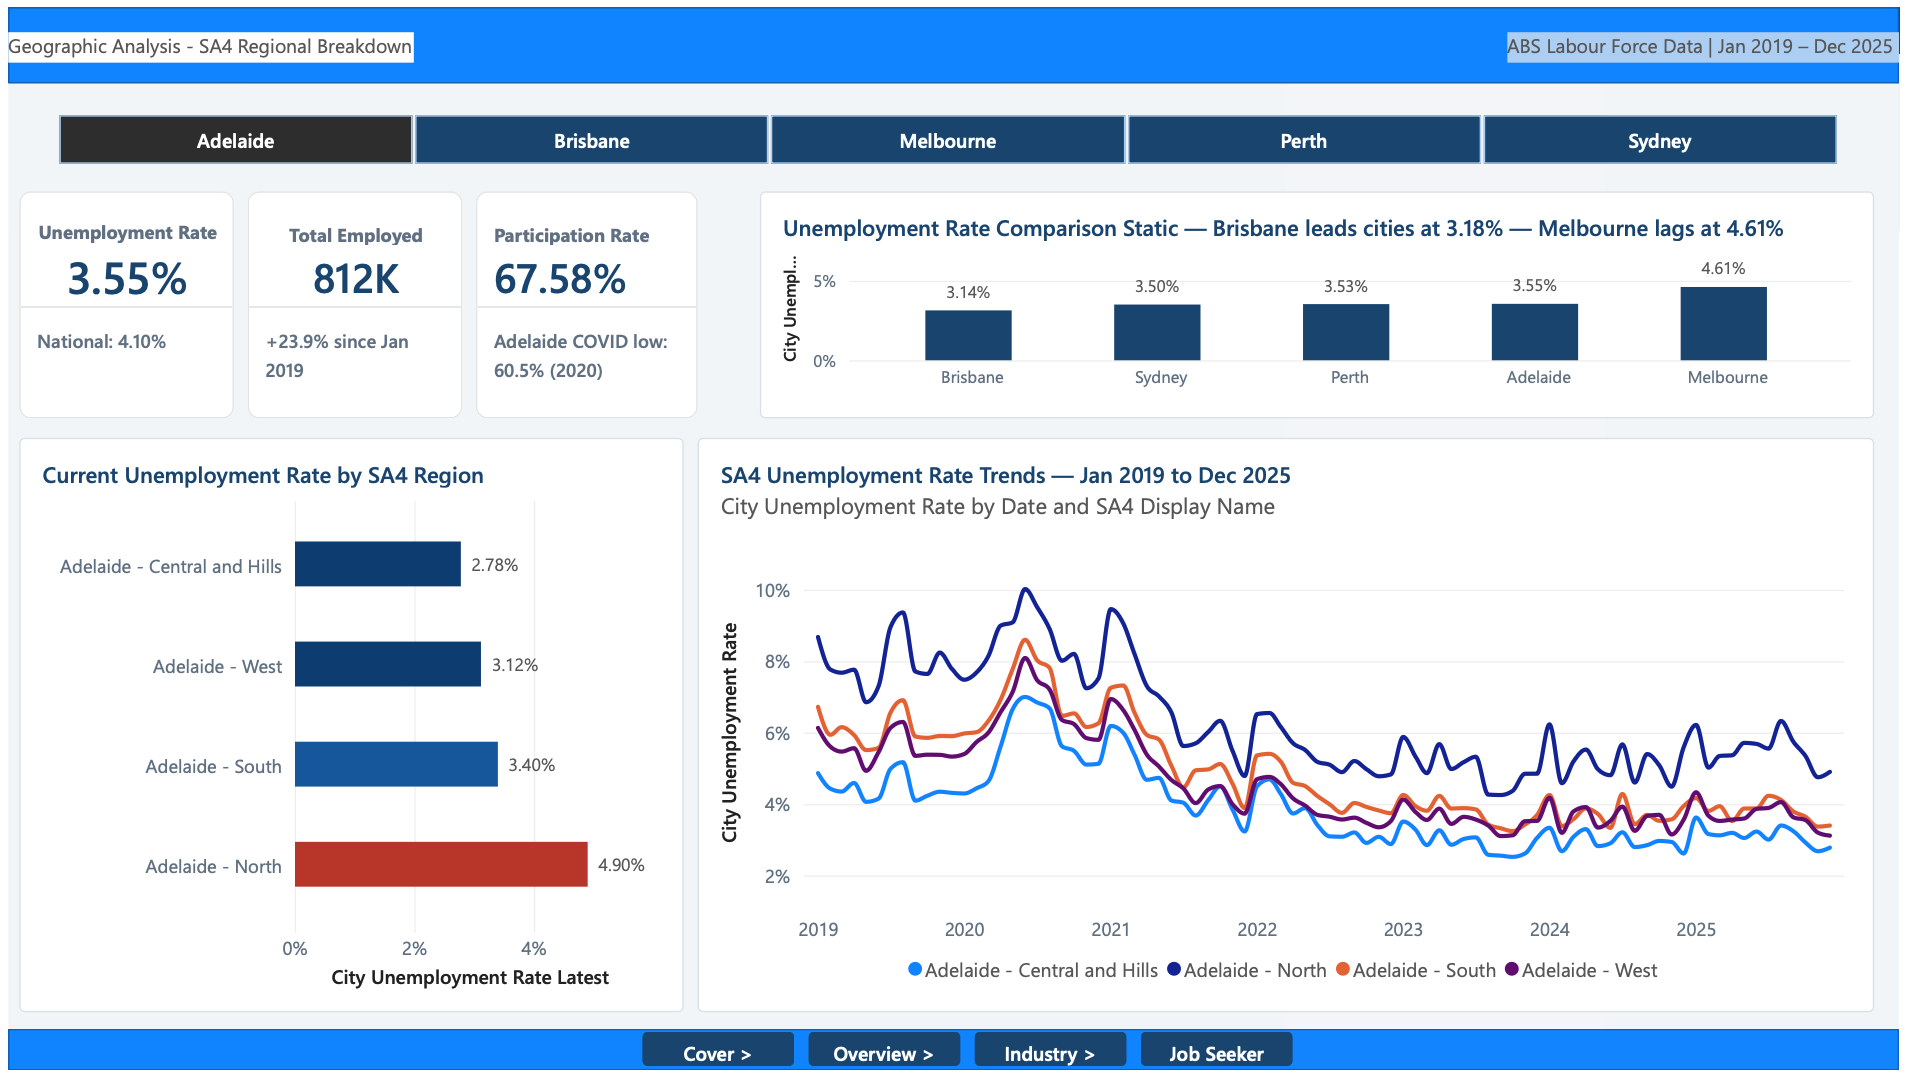

The dashboard page shown, as its layout file describes it:
{"tool":"powerbi","page":{"name":"Geographic Analysis","canvas":[1366,768],"ordinal":3},"visuals":[{"type":"shape","box":[0,0,1366,55],"z":0},{"type":"textbox","box":[0,18,293,22],"z":1000},{"type":"textbox","box":[1083.3,18.2,282.7,21.8],"z":2000},{"type":"shape","box":[0,738,1366,30],"z":3000},{"type":"slicer","fields":{"Values":["DimCity.City"]},"box":[8,68,1340,55],"z":4000},{"type":"cardVisual","fields":{"Data":["_Measures.City Unemployment Rate Latest"]},"box":[8,133,155,164],"z":5000},{"type":"cardVisual","fields":{"Data":["_Measures.City Employed Total Latest"]},"box":[173,133,155,164],"z":6000},{"type":"cardVisual","fields":{"Data":["_Measures.City Participation Rate Latest"]},"box":[338,133,160,164],"z":7000},{"type":"clusteredBarChart","title":"Current Unemployment Rate by SA4 Region","fields":{"Category":["SA4 Cities.SA4 Display Name"],"Y":["_Measures.City Unemployment Rate Latest"]},"box":[8,311,480,415],"z":8000},{"type":"lineChart","title":"SA4 Unemployment Rate Trends — Jan 2019 to Dec 2025","fields":{"Category":["DimDate.Date"],"Series":["SA4 Cities.SA4 Display Name"],"Y":["_Measures.City Unemployment Rate"]},"box":[498,311,850,415],"z":9000},{"type":"clusteredColumnChart","title":"Unemployment Rate Comparison Static — Brisbane leads cities at 3.18% — Melbourne lags at 4.61%","fields":{"Category":["DimCity.City"],"Y":["_Measures.City Unemployment Rate Latest"]},"box":[543,133,805,164],"z":10000},{"type":"actionButton","box":[578,740,110,25],"z":14500},{"type":"actionButton","box":[818,740,110,25],"z":14750},{"type":"actionButton","box":[698,740,110,25],"z":15000},{"type":"actionButton","box":[458,740,110,25],"z":16001}]}

Visuals, with their boxes in screenshot pixels (x1, y1, x2, y2), scaled from the page's 1366x768 canvas onto the 1920x1080 screenshot:
shape: left=0, top=0, right=1919, bottom=77
textbox: left=0, top=25, right=412, bottom=56
textbox: left=1523, top=26, right=1919, bottom=56
shape: left=0, top=1038, right=1919, bottom=1079
slicer - DimCity.City: left=11, top=96, right=1895, bottom=173
cardVisual - _Measures.City Unemployment Rate Latest: left=11, top=187, right=229, bottom=418
cardVisual - _Measures.City Employed Total Latest: left=243, top=187, right=461, bottom=418
cardVisual - _Measures.City Participation Rate Latest: left=475, top=187, right=700, bottom=418
"Current Unemployment Rate by SA4 Region" clusteredBarChart: left=11, top=437, right=686, bottom=1021
"SA4 Unemployment Rate Trends — Jan 2019 to Dec 2025" lineChart: left=700, top=437, right=1895, bottom=1021
"Unemployment Rate Comparison Static — Brisbane leads cities at 3.18% — Melbourne lags at 4.61%" clusteredColumnChart: left=763, top=187, right=1895, bottom=418
actionButton: left=812, top=1041, right=967, bottom=1076
actionButton: left=1150, top=1041, right=1304, bottom=1076
actionButton: left=981, top=1041, right=1136, bottom=1076
actionButton: left=644, top=1041, right=798, bottom=1076
